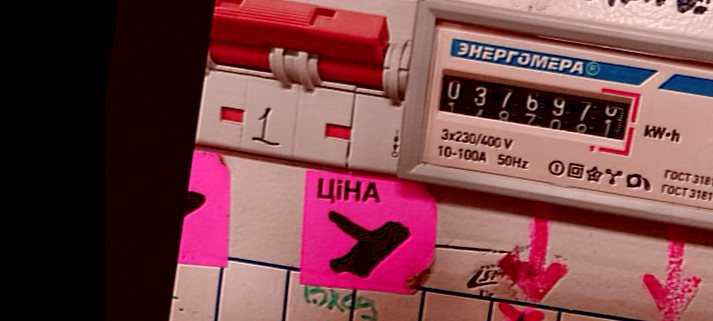0: (447, 78, 464, 102)
1: (601, 118, 616, 139)
3: (473, 85, 491, 109)
6: (525, 89, 544, 114)
7: (498, 86, 517, 111), (578, 100, 596, 124)
9: (551, 94, 569, 119)
screen: (426, 59, 646, 162)
